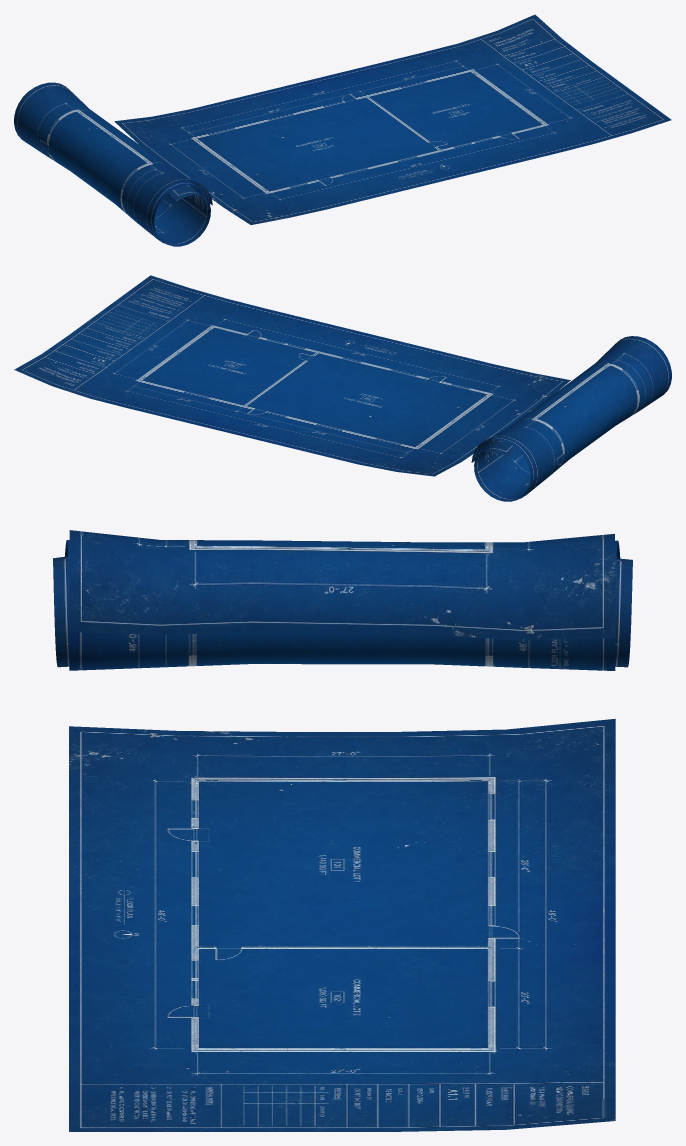
Rendered from prop-blueprints-001.glb.
The picture shows the model from 3 angles, top to bottom: view 1: azimuth 30°, elevation 25°; view 2: azimuth 150°, elevation 25°; view 3: azimuth 270°, elevation 25°; orthographic projection. The views are drawn at different scales.
Parts seen in each view (by area): view 1: Blueprint Flat, Blueprint Rolled; view 2: Blueprint Flat, Blueprint Rolled; view 3: Blueprint Flat, Blueprint Rolled.
Boxes of the visible parts, x1,y1,x2,y2 form: Blueprint Flat: [114, 14, 671, 224]; Blueprint Rolled: [14, 82, 212, 246]; Blueprint Flat: [14, 275, 570, 476]; Blueprint Rolled: [471, 336, 671, 501]; Blueprint Flat: [69, 718, 615, 1131]; Blueprint Rolled: [53, 530, 632, 670].
Size of the model in its own units: 2.2 by 0.2553 by 1.06.
1 material, 1 textured.
